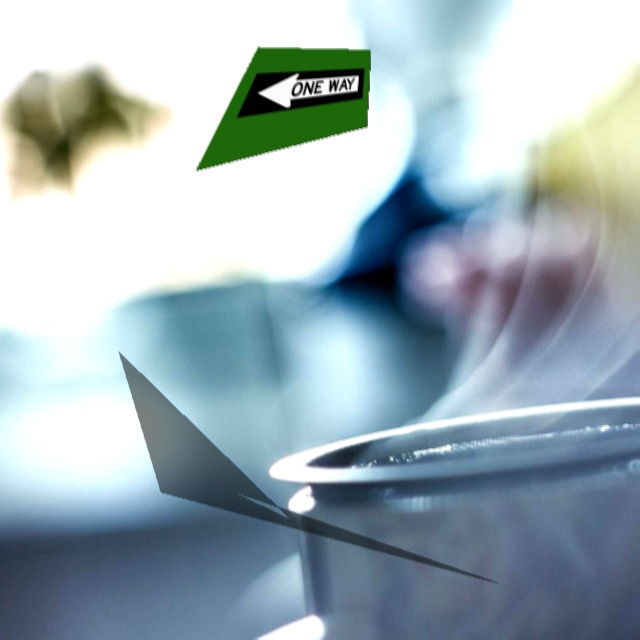ONE_WAY_ left: (238, 69, 365, 118)
